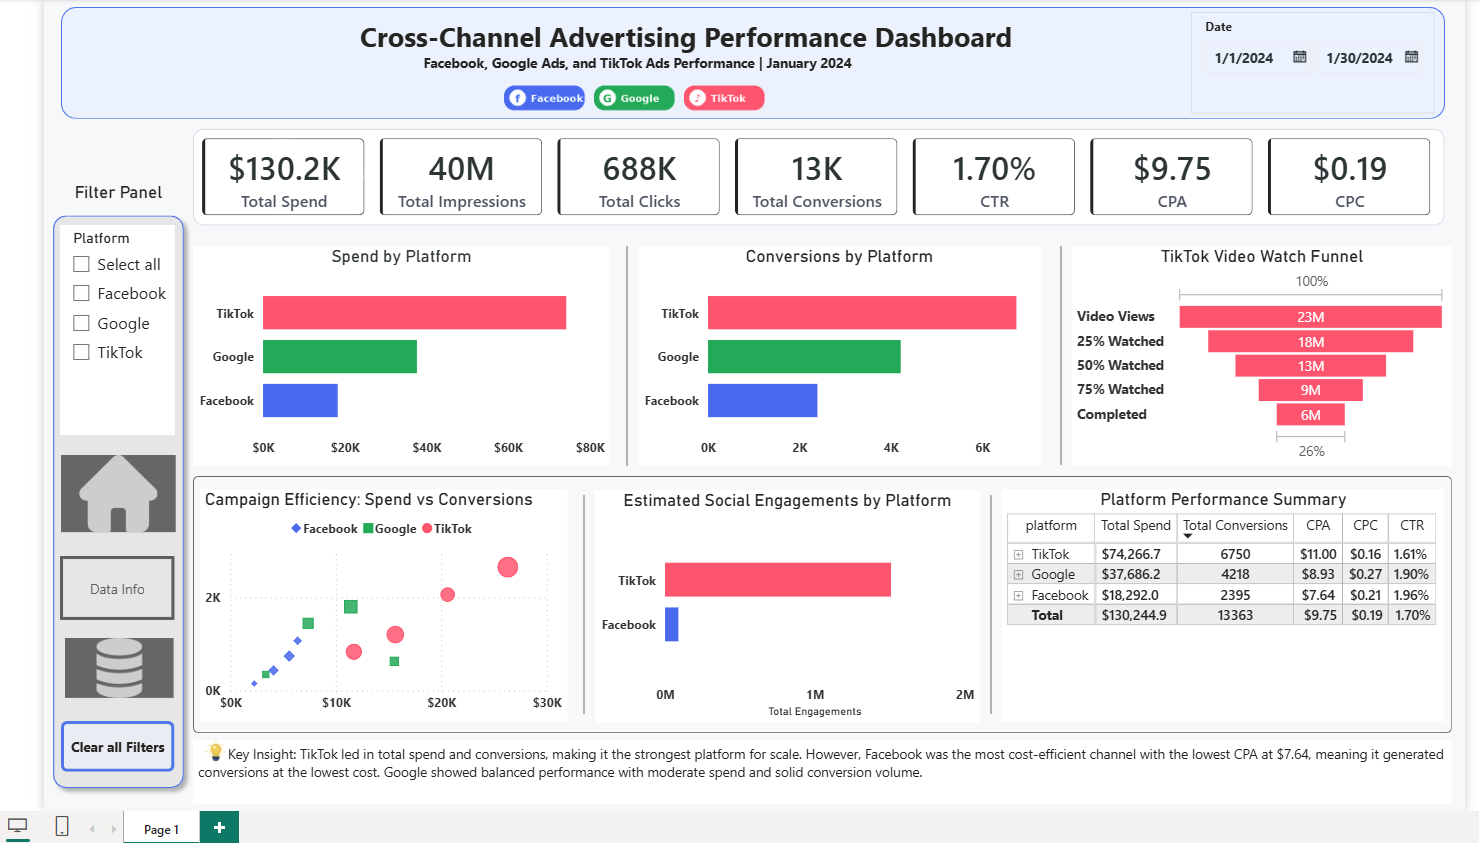

This screenshot's page, from the dashboard's own definition file:
{"tool":"powerbi","page":{"name":"Page 1","canvas":[1400,800],"ordinal":0},"visuals":[{"type":"shape","box":[16.7,7.9,1363.5,110.3],"z":0},{"type":"shape","box":[146.8,470,1240.4,253.2],"z":1000},{"type":"cardVisual","fields":{"Data":["unified_ads.Total Spend","unified_ads.Total Impressions","unified_ads.Total Clicks","unified_ads.Total Conversions","unified_ads.CTR","unified_ads.CPA","unified_ads.CPC"]},"box":[146.8,128.1,1233.5,94.6],"z":2000},{"type":"clusteredBarChart","title":"Spend by Platform","fields":{"Category":["unified_ads.platform"],"Y":["unified_ads.Total Spend"]},"box":[146.8,243.3,410.8,216.7],"z":3000},{"type":"clusteredBarChart","title":"Conversions by Platform","fields":{"Category":["unified_ads.platform"],"Y":["unified_ads.Total Conversions"]},"box":[585.2,243.3,397,216.7],"z":4000},{"type":"shape","title":"Filter Panel","box":[0,180.6,146.7,606.1],"z":5000},{"type":"slicer","fields":{"Values":["unified_ads.date"]},"box":[1130,12.8,240.4,100.5],"z":6000},{"type":"clusteredBarChart","title":"Estimated Social Engagements by Platform","fields":{"Category":["unified_ads.platform"],"Y":["unified_ads.Total Engagements"]},"box":[542.9,483.7,379.3,228.6],"z":7000},{"type":"funnel","title":"TikTok Video Watch Funnel","fields":{"Category":["Video Funnel Stages.Stage"],"Y":["Video Funnel Stages.Video Funnel Value"]},"box":[1012.8,243.3,374.4,216.7],"z":8000},{"type":"scatterChart","title":"Campaign Efficiency: Spend vs Conversions","fields":{"X":["unified_ads.Total Spend"],"Y":["unified_ads.Total Conversions"],"Series":["unified_ads.platform"],"Size":["unified_ads.Total Clicks"],"Category":["unified_ads.campaign_name"]},"box":[153.7,482.8,361.6,228.6],"z":9000},{"type":"actionButton","box":[17,711.7,111.7,50],"z":10000},{"type":"textbox","box":[111.3,12.8,1005.9,50.2],"z":11000},{"type":"slicer","fields":{"Values":["unified_ads.platform"]},"box":[15.8,223,112.7,207.3],"z":12000},{"type":"shape","box":[563.5,243.3,21.7,216.7],"z":13000},{"type":"shape","box":[521.2,488.7,21.7,215.8],"z":14000},{"type":"shape","box":[922.2,488.7,21.7,215.8],"z":15000},{"type":"textbox","box":[146.8,730,1240.4,63.1],"z":16000},{"type":"pivotTable","title":"Platform Performance Summary","fields":{"Values":["unified_ads.Total Spend","unified_ads.Total Conversions","unified_ads.CPA","unified_ads.CPC","unified_ads.CTR"],"Rows":["unified_ads.platform","unified_ads.campaign_name"]},"box":[943.8,482.8,436.5,228.6],"z":17000},{"type":"shape","box":[991.1,243.3,21.7,215.8],"z":18000},{"type":"textbox","box":[346.8,49.3,475.9,29.6],"z":19000},{"type":"image","box":[146.8,730,45.3,23.6],"z":20000},{"type":"image","box":[337.9,78.8,493.6,39.4],"z":21000},{"type":"image","box":[20.7,629.6,107.4,59.1],"z":22000},{"type":"actionButton","box":[15.8,549.1,112.7,63],"z":23000},{"type":"image","box":[17,449.7,112.7,76.4],"z":25000}]}

Visuals, with their boxes in screenshot pixels (x1, y1, x2, y2):
shape: x1=59, y1=43, x2=1427, y2=153
shape: x1=190, y1=506, x2=1434, y2=760
cardVisual - unified_ads.Total Spend x unified_ads.Total Impressions: x1=190, y1=163, x2=1427, y2=258
"Spend by Platform" clusteredBarChart: x1=190, y1=279, x2=602, y2=496
"Conversions by Platform" clusteredBarChart: x1=629, y1=279, x2=1027, y2=496
"Filter Panel" shape: x1=42, y1=216, x2=189, y2=824
slicer - unified_ads.date: x1=1176, y1=47, x2=1417, y2=148
"Estimated Social Engagements by Platform" clusteredBarChart: x1=587, y1=520, x2=967, y2=749
"TikTok Video Watch Funnel" funnel: x1=1058, y1=279, x2=1434, y2=496
"Campaign Efficiency: Spend vs Conversions" scatterChart: x1=197, y1=519, x2=559, y2=748
actionButton: x1=59, y1=748, x2=171, y2=799
textbox: x1=154, y1=47, x2=1163, y2=98
slicer - unified_ads.platform: x1=58, y1=258, x2=171, y2=466
shape: x1=608, y1=279, x2=629, y2=496
shape: x1=565, y1=525, x2=587, y2=741
shape: x1=967, y1=525, x2=989, y2=741
textbox: x1=190, y1=767, x2=1434, y2=830
"Platform Performance Summary" pivotTable: x1=989, y1=519, x2=1427, y2=748
shape: x1=1036, y1=279, x2=1058, y2=495
textbox: x1=390, y1=84, x2=867, y2=114
image: x1=190, y1=767, x2=235, y2=790
image: x1=381, y1=114, x2=876, y2=153
image: x1=63, y1=666, x2=171, y2=725
actionButton: x1=58, y1=585, x2=171, y2=649
image: x1=59, y1=486, x2=172, y2=562
